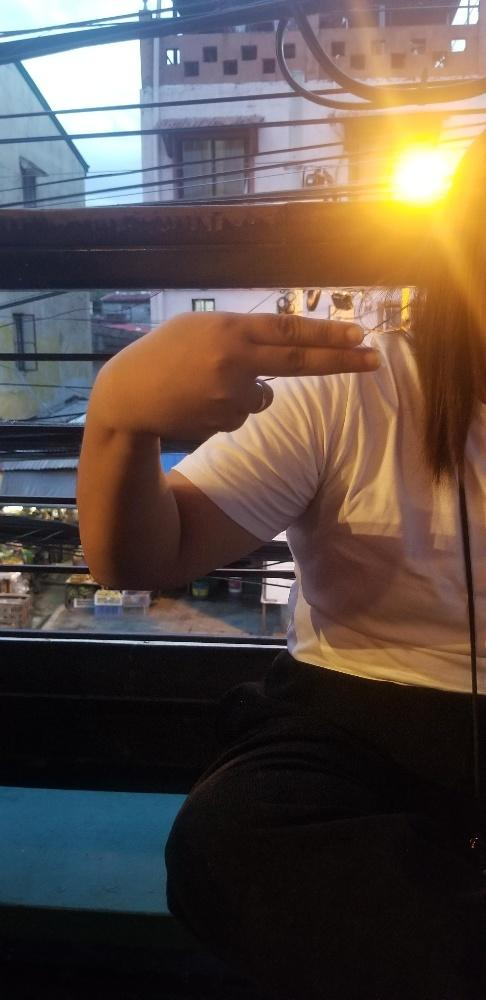h: (94, 308, 380, 436)
